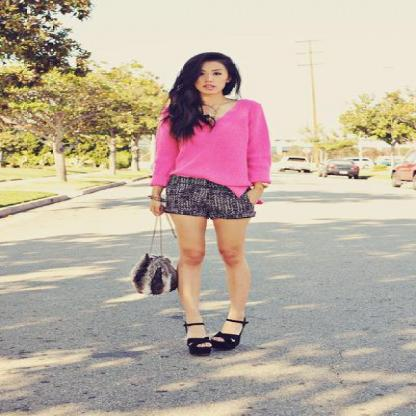bag: (133, 258, 178, 290)
shirt: (138, 97, 270, 191)
shoe: (187, 312, 248, 356)
skirt: (162, 174, 255, 220)
